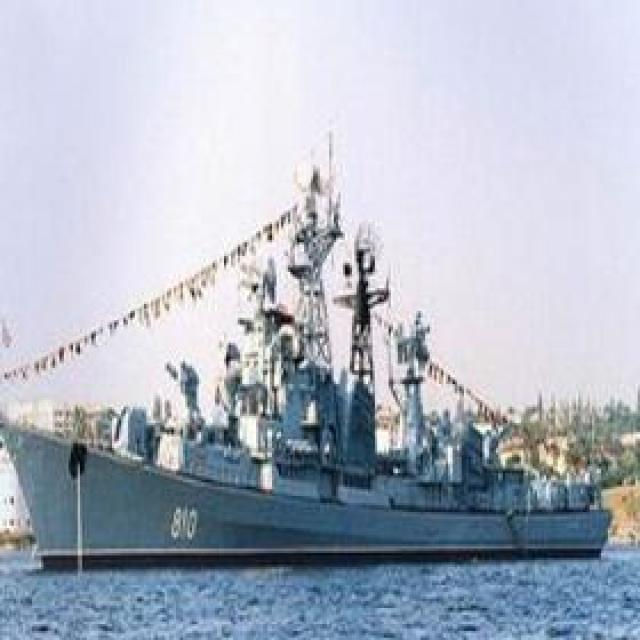navalvessels: (0, 203, 615, 583)
